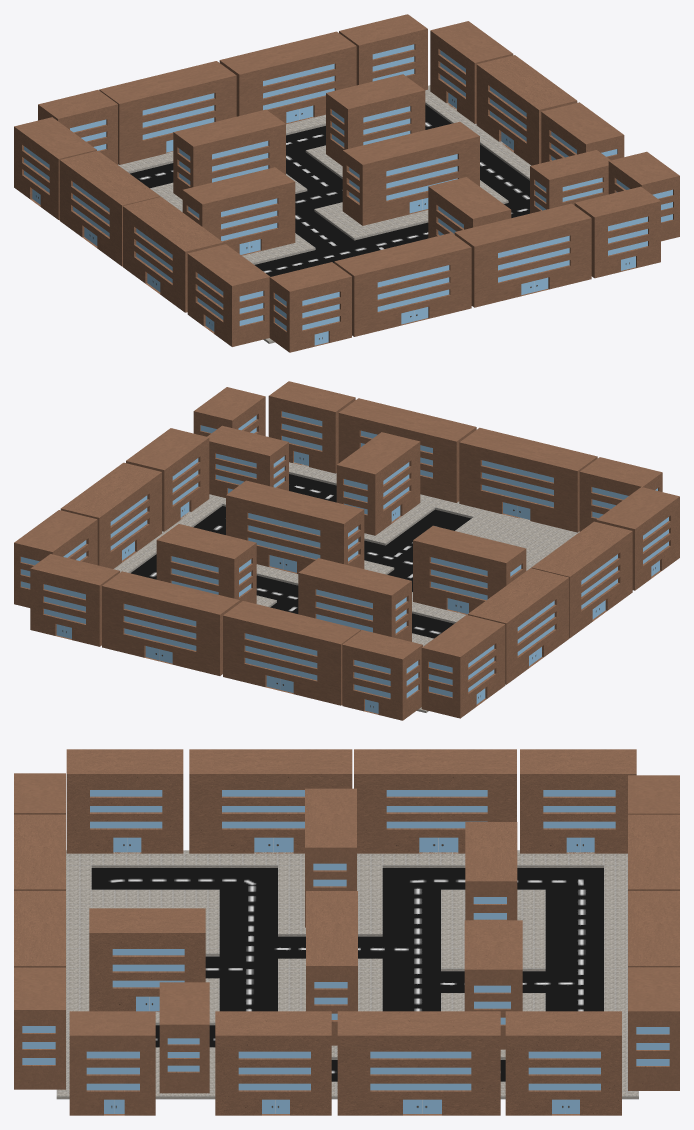
File: Ciudad-PIA.glb
The picture shows the model from 3 angles, top to bottom: view 1: azimuth 30°, elevation 25°; view 2: azimuth 150°, elevation 25°; view 3: azimuth 270°, elevation 25°; orthographic projection. The views are drawn at different scales.
Visible parts, largest first — view 1: pCube24; view 2: pCube24; view 3: pCube24.
Part boxes in pixels (bbox=[...]): pCube24: bbox=[14, 14, 679, 352]; pCube24: bbox=[14, 381, 679, 720]; pCube24: bbox=[14, 749, 679, 1115].
Size of the model in its own units: 3.15 by 0.4241 by 3.1.
Materials: 1 (1 with a texture image).
